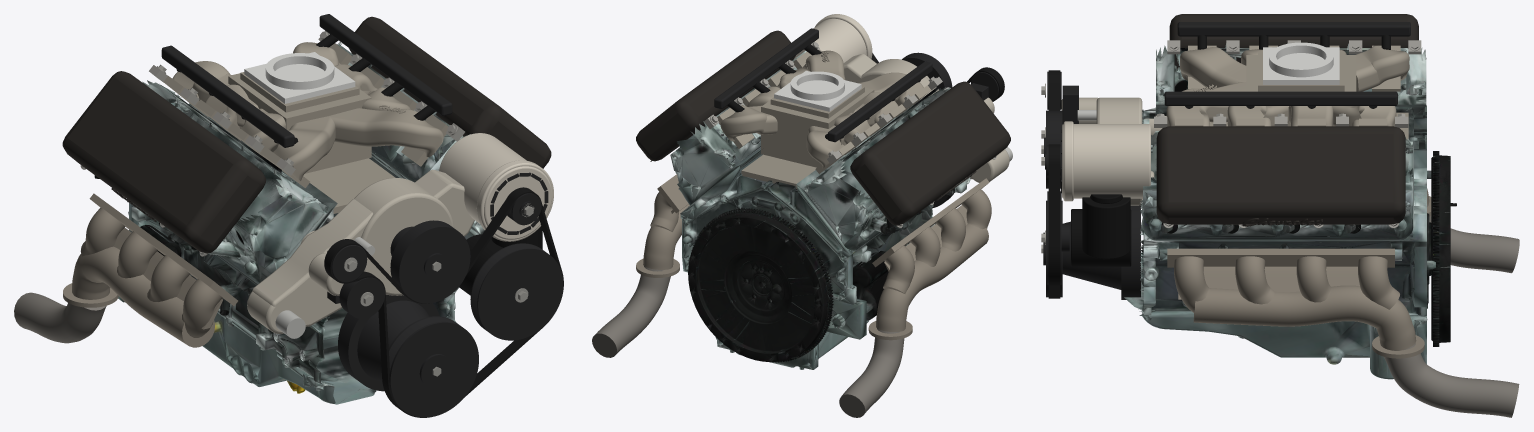
The model's file is k5-engine-ls3.glb.
The picture shows the model from 3 angles, left to right: view 1: azimuth 30°, elevation 25°; view 2: azimuth 150°, elevation 25°; view 3: azimuth 270°, elevation 25°; orthographic projection. The views are drawn at different scales.
Visible parts, largest first — view 1: longblock_scan, valve_cover_R, intake_300-131, midmount_bracket, header_R, balancer, ps_pulley, valve_cover_L, alternator_197-302, water_pump, belt, tb_adapter (+12 smaller); view 2: longblock_scan, valve_cover_R, intake_300-131, header_R, valve_cover_L, header_L, downpipe_L, downpipe_R, tb_adapter, midmount_bracket, alternator_197-302, fuel_rail_R (+6 smaller); view 3: longblock_scan, valve_cover_L, header_L, intake_300-131, alternator_197-302, downpipe_L, ps_pump, valve_cover_R, fuel_rail_L, fuel_rail_R, tb_adapter, balancer (+8 smaller).
Part boxes in pixels (bbox=[...]): longblock_scan: bbox=[94, 42, 484, 404]; valve_cover_R: bbox=[62, 71, 265, 253]; intake_300-131: bbox=[163, 42, 448, 213]; midmount_bracket: bbox=[247, 169, 474, 333]; header_R: bbox=[63, 193, 237, 347]; balancer: bbox=[338, 294, 478, 417]; ps_pulley: bbox=[470, 243, 563, 340]; valve_cover_L: bbox=[349, 16, 551, 168]; alternator_197-302: bbox=[439, 133, 553, 241]; water_pump: bbox=[390, 220, 470, 303]; belt: bbox=[324, 187, 563, 417]; tb_adapter: bbox=[244, 52, 355, 103]; longblock_scan: bbox=[670, 51, 971, 369]; valve_cover_R: bbox=[850, 81, 1010, 225]; intake_300-131: bbox=[717, 50, 931, 189]; header_R: bbox=[868, 178, 991, 340]; valve_cover_L: bbox=[636, 30, 795, 161]; header_L: bbox=[636, 174, 689, 277]; downpipe_L: bbox=[592, 266, 670, 357]; downpipe_R: bbox=[839, 328, 904, 417]; tb_adapter: bbox=[774, 70, 861, 111]; midmount_bracket: bbox=[843, 54, 1009, 182]; alternator_197-302: bbox=[794, 14, 872, 62]; fuel_rail_R: bbox=[827, 61, 932, 142]; longblock_scan: bbox=[1124, 43, 1456, 379]; valve_cover_L: bbox=[1156, 126, 1405, 224]; header_L: bbox=[1167, 248, 1424, 358]; intake_300-131: bbox=[1166, 45, 1409, 139]; alternator_197-302: bbox=[1062, 121, 1150, 201]; downpipe_L: bbox=[1384, 343, 1519, 417]; ps_pump: bbox=[1071, 194, 1131, 266]; valve_cover_R: bbox=[1169, 14, 1418, 69]; fuel_rail_L: bbox=[1164, 91, 1397, 105]; fuel_rail_R: bbox=[1177, 22, 1410, 36]; tb_adapter: bbox=[1263, 42, 1339, 84]; balancer: bbox=[1043, 200, 1140, 299].
Size of the model in its own units: 0.7138 by 0.5788 by 0.8722.
Materials: 14 (1 with a texture image).
